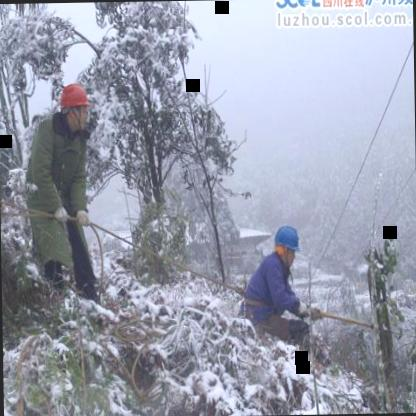helmet: (56, 78, 94, 130), (272, 222, 302, 266)
